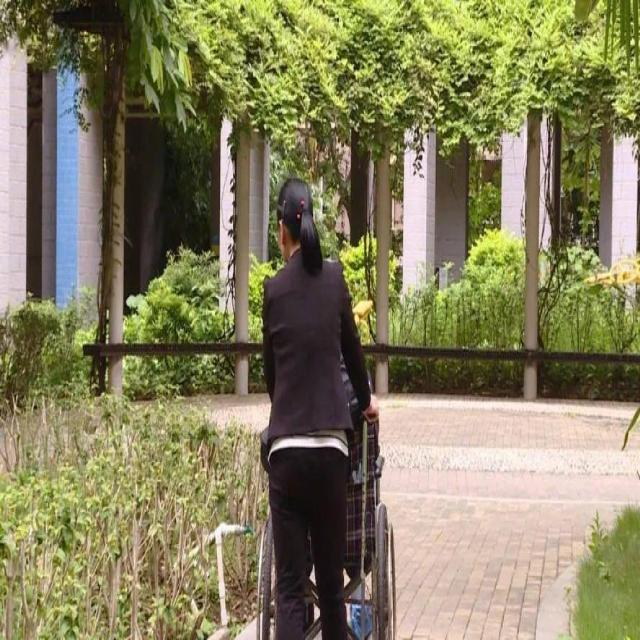wheelchairs: (234, 387, 418, 640)
